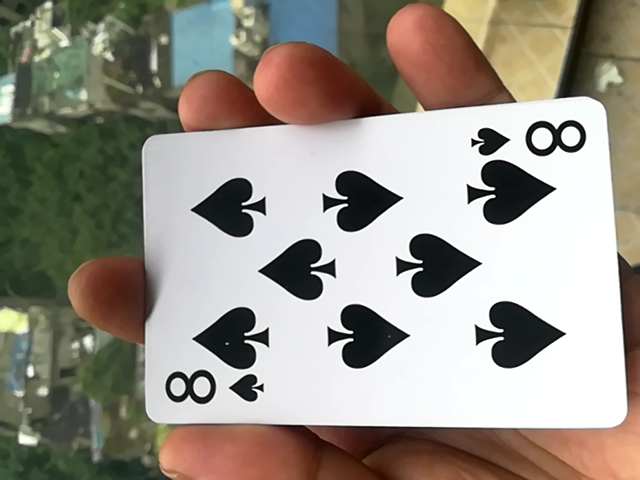ht 8: (121, 106, 617, 449)
